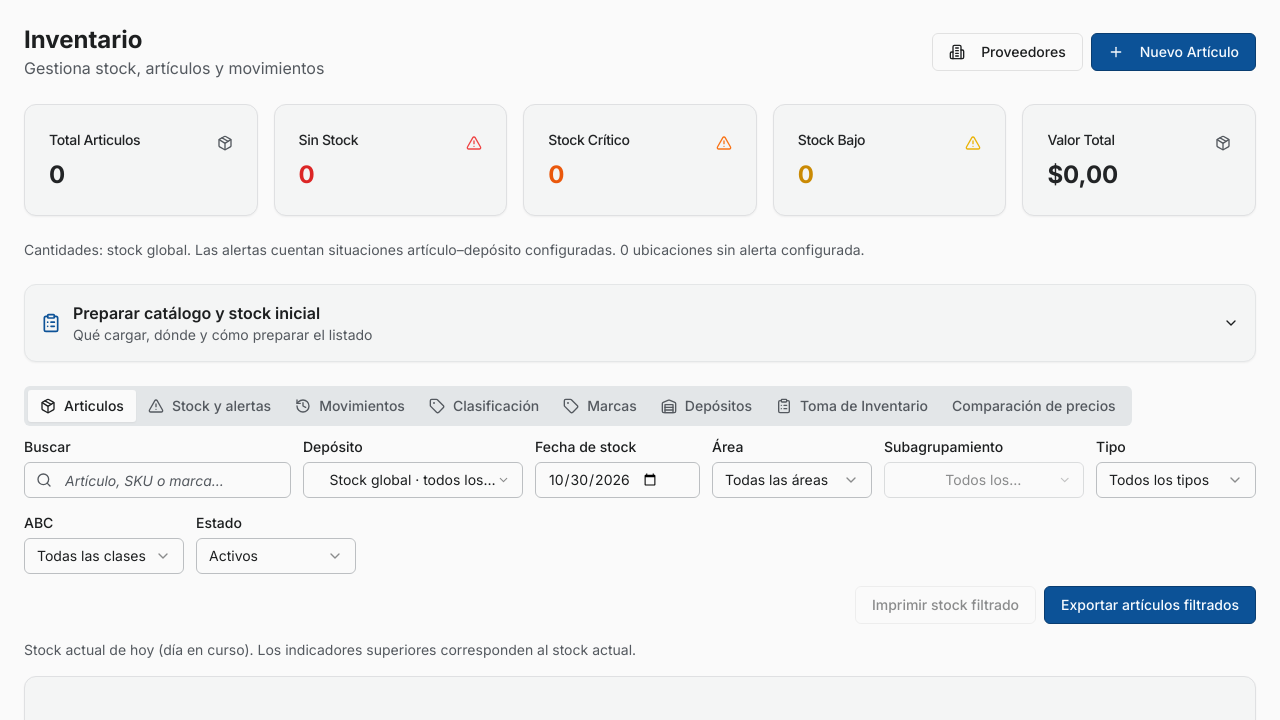
Test: una toma antigua permite consultar sin editar ni aplicar ajustes globales
Click the tab "Toma de Inventario": x=852, y=406 [764,390,940,422]
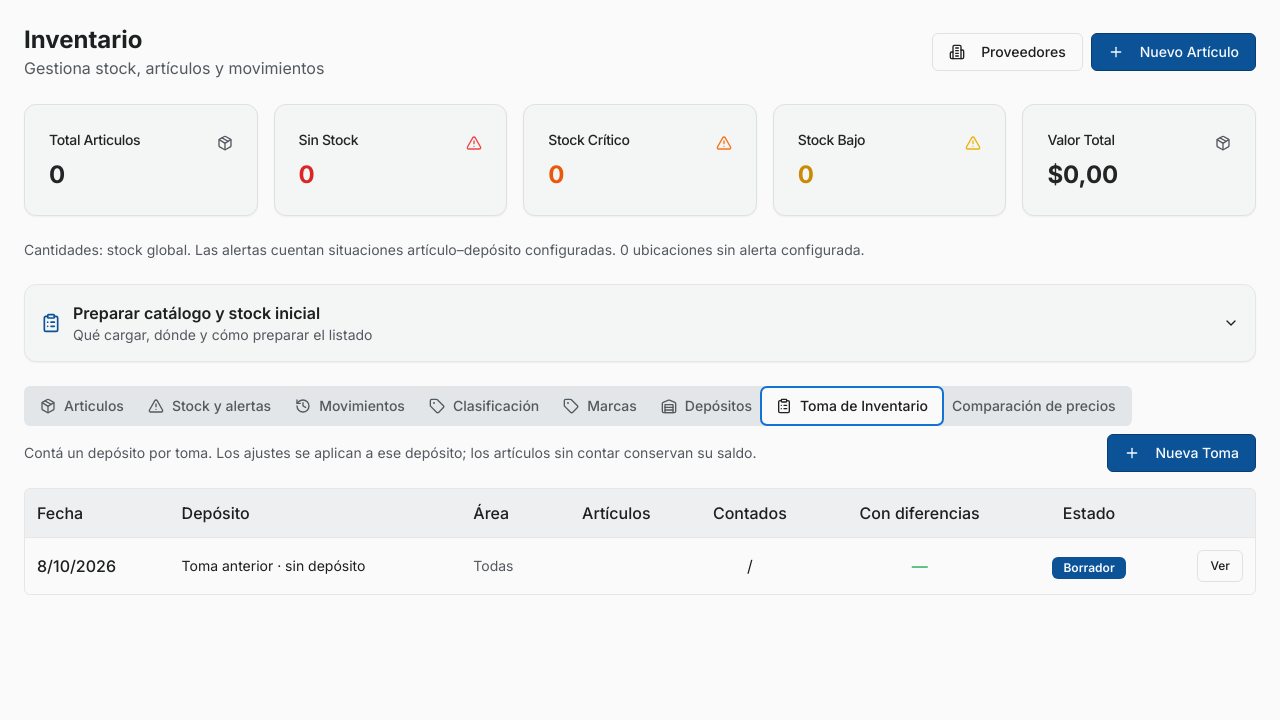
Click the button "Ver": x=1220, y=566 [1197,550,1243,582]
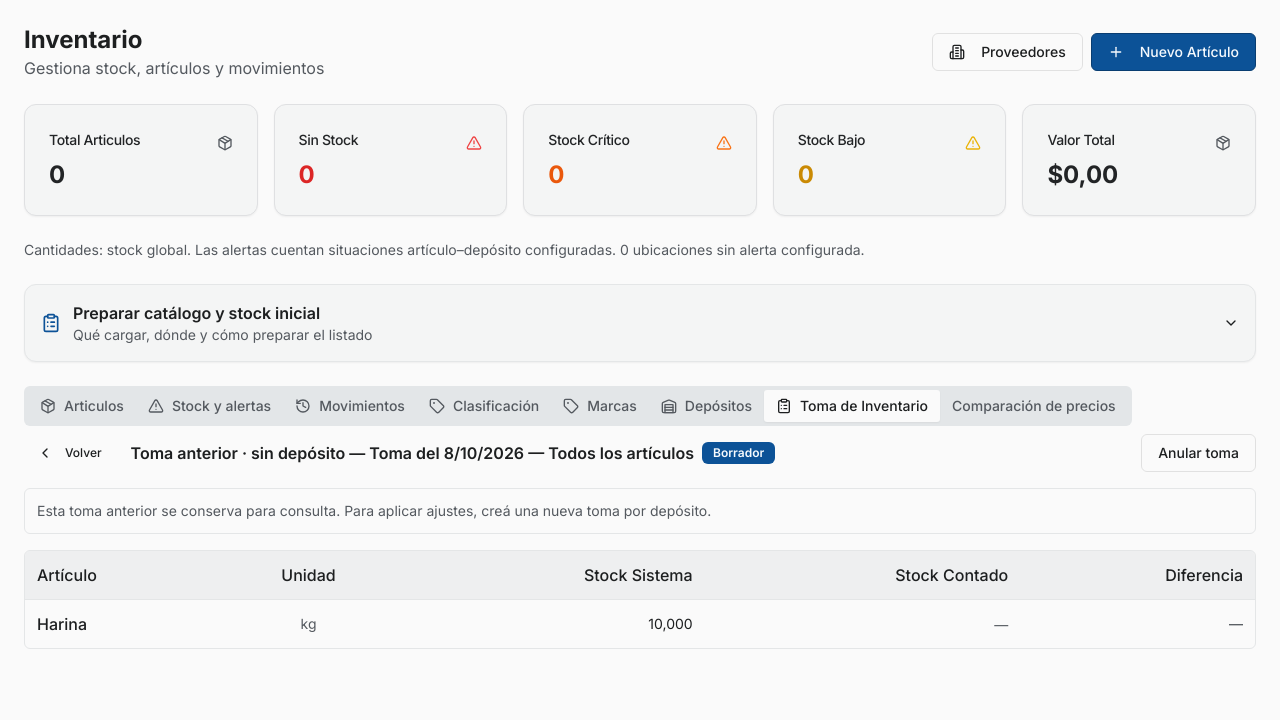
Expected: the text "Esta toma anterior se conserva para consulta" is shown, [37,502,711,519]
